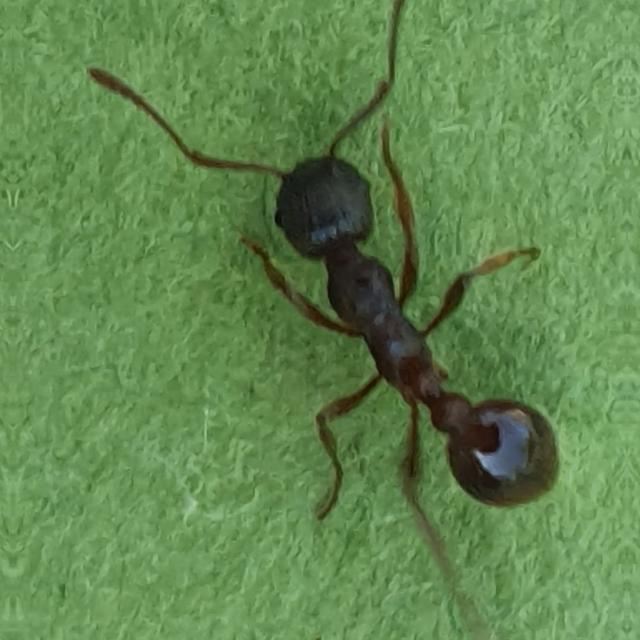Myrmica: (135, 15, 590, 545)
